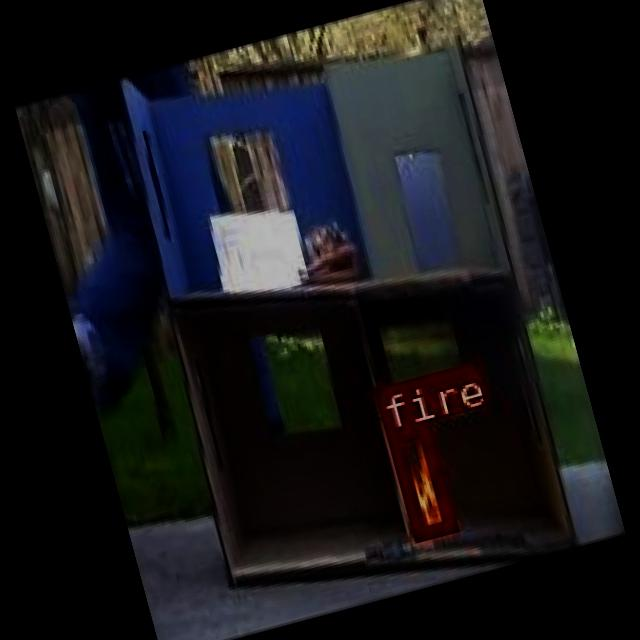fire: (384, 421, 454, 539)
